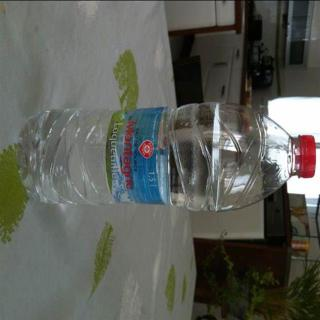Anorganik: (12, 102, 319, 214)
